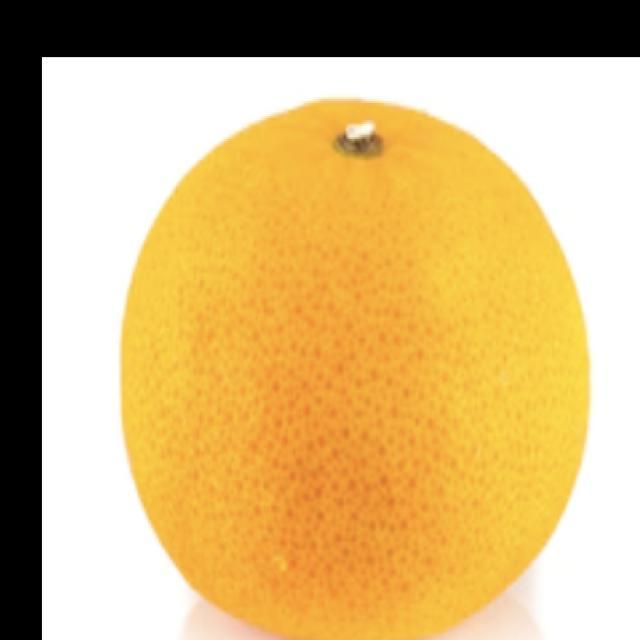Orange: (118, 96, 592, 639)
